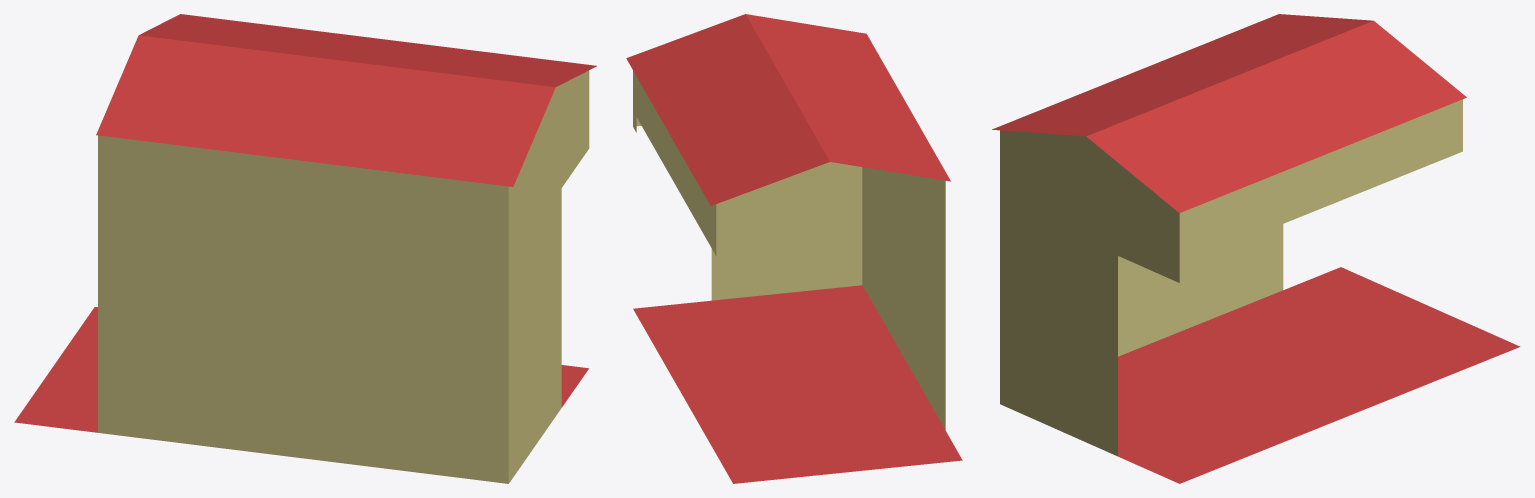
3 renders of one model, left to right at view 1: azimuth 30°, elevation 25°; view 2: azimuth 150°, elevation 25°; view 3: azimuth 270°, elevation 25°, orthographic. The views are drawn at different scales.
Bounding box in the file's own units: 21.13 × 21.43 × 13.84.
